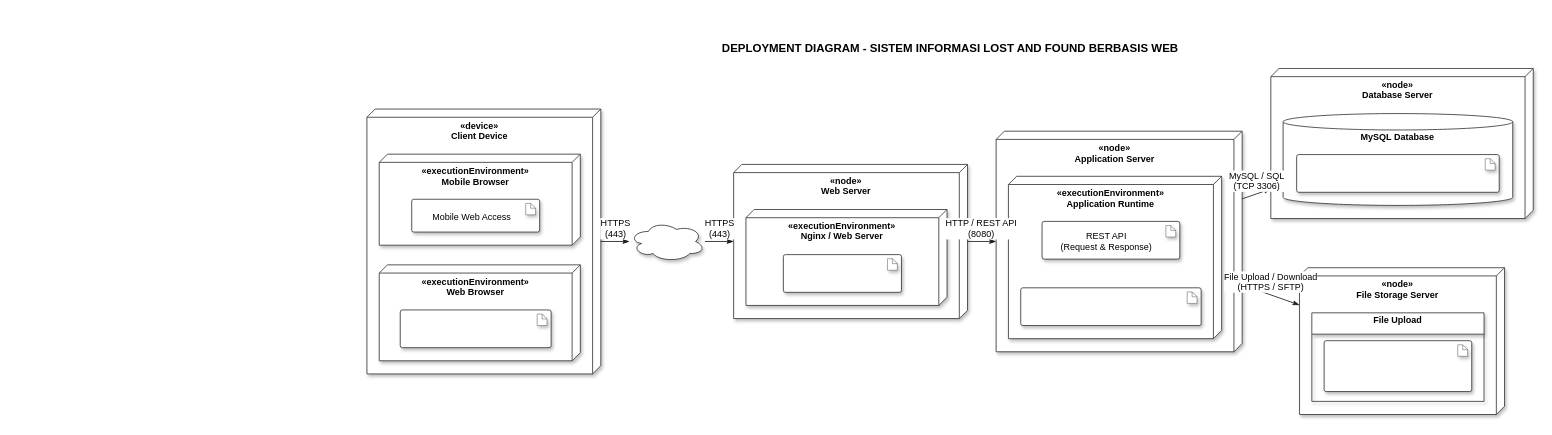
Some shapes in this 1552 by 435 pixel diagram are drawn without their labels. The centre of each missing label's shape, as x and y in pixels:
Foto Barang Hilang Foto Barang Ditemukan Bukti Kepemilikan: the point at 1398,367
Frontend Website (Lost and Found): the point at 842,274
Internet: the point at 667,242
Lost and Found System (Backend / Application Logic): the point at 1111,307
lost_found.sql (Data Barang, User, dan Laporan): the point at 1398,174
Website Lost and Found (HTML, CSS, JavaScript): the point at 476,329
